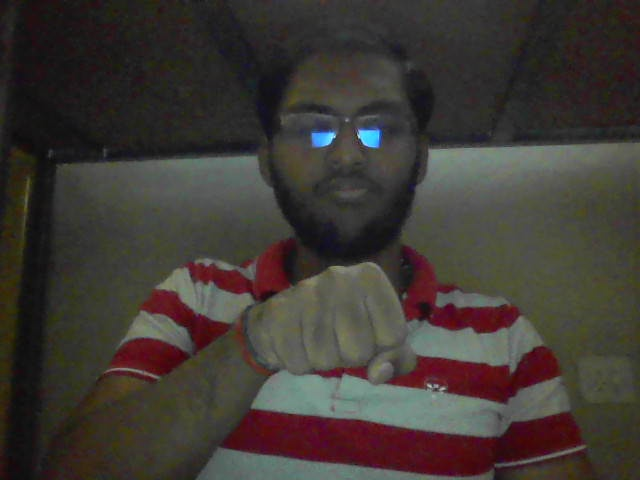Not_Hungry: (207, 256, 432, 408)
